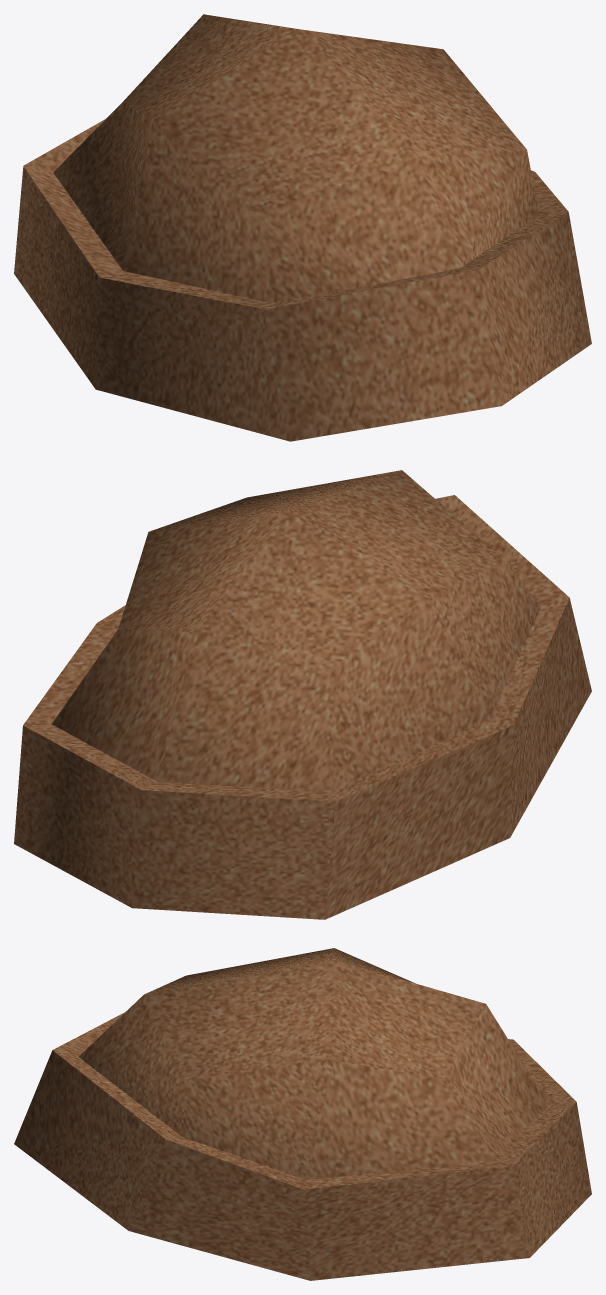
The model's file is topi_kupluk.FBX.
3 views of the same model, one above another, from view 1: azimuth 30°, elevation 25°; view 2: azimuth 150°, elevation 25°; view 3: azimuth 270°, elevation 25° (orthographic). The views are drawn at different scales.
Parts seen in each view (by area): view 1: topi_kupluk; view 2: topi_kupluk; view 3: topi_kupluk.
Part boxes in pixels (x1,y1,x2,y2): topi_kupluk: (14, 14, 591, 441); topi_kupluk: (14, 470, 591, 919); topi_kupluk: (14, 948, 591, 1280).
Size of the model in its own units: 7.07 by 4.63 by 10.21.
